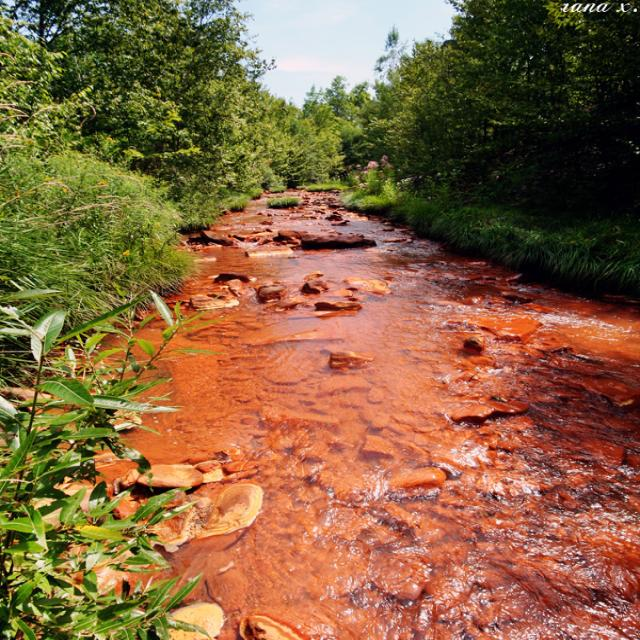yellow_boy: (131, 190, 639, 639)
